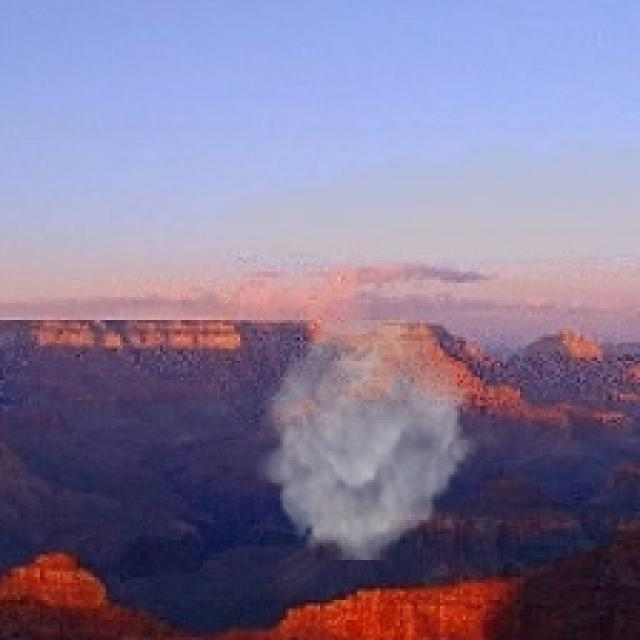smoke: (254, 320, 480, 560)
